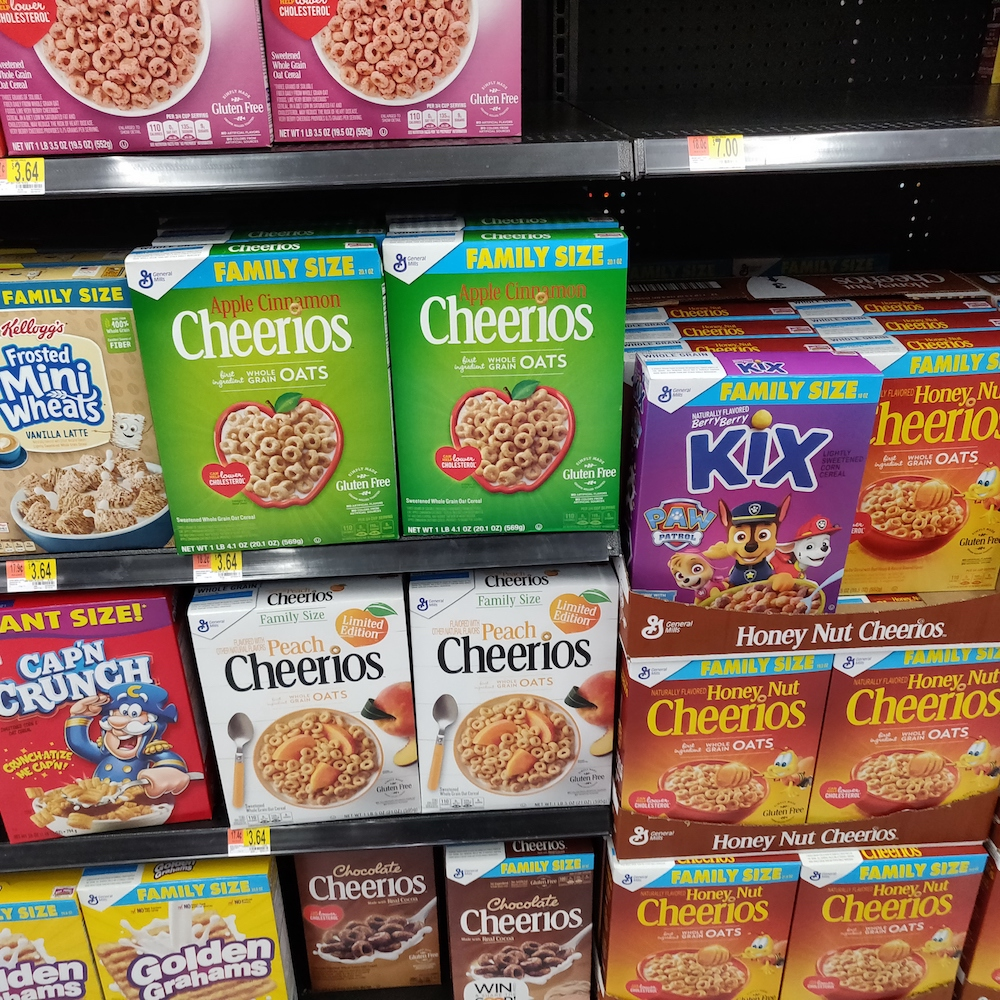Kix Berry -568919964: (641, 363, 852, 618)
